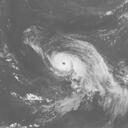cyclone: (50, 51, 85, 84)
